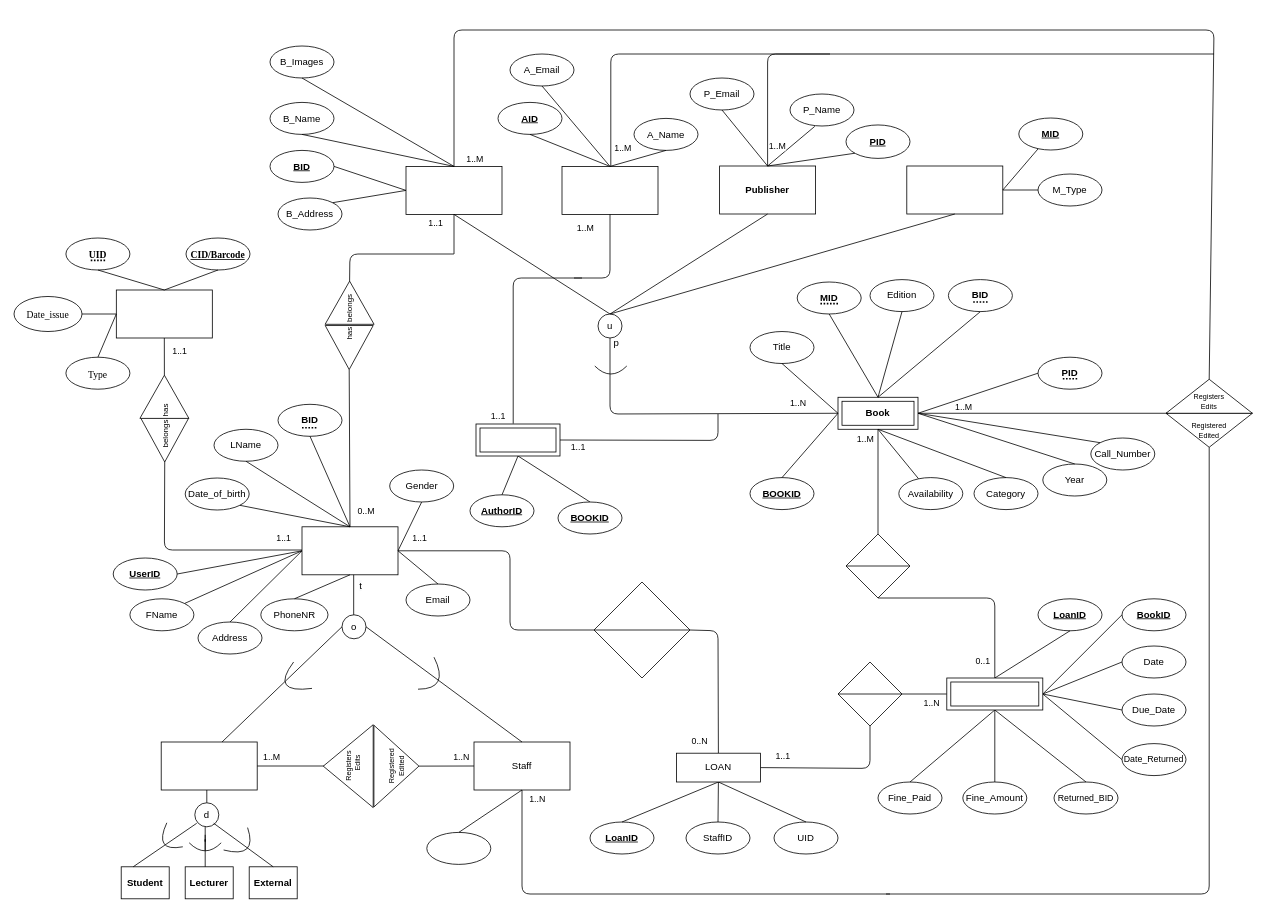
The diagram is 1277 pixels wide and 913 high, and some of its shapes have lost their labels. The centre of each missing label's shape, as x and y in pixels:
Author: the point at 609,190
belong has: the point at 869,693
belong has / create: the point at 641,629
BOOK_AUTHOR: the point at 517,439
Borrower: the point at 208,765
Branch: the point at 453,190
CARD: the point at 164,313
has been belong: the point at 877,565
LoanDetails: the point at 994,693
Material: the point at 954,189
Role: the point at 458,848
User: the point at 349,550
